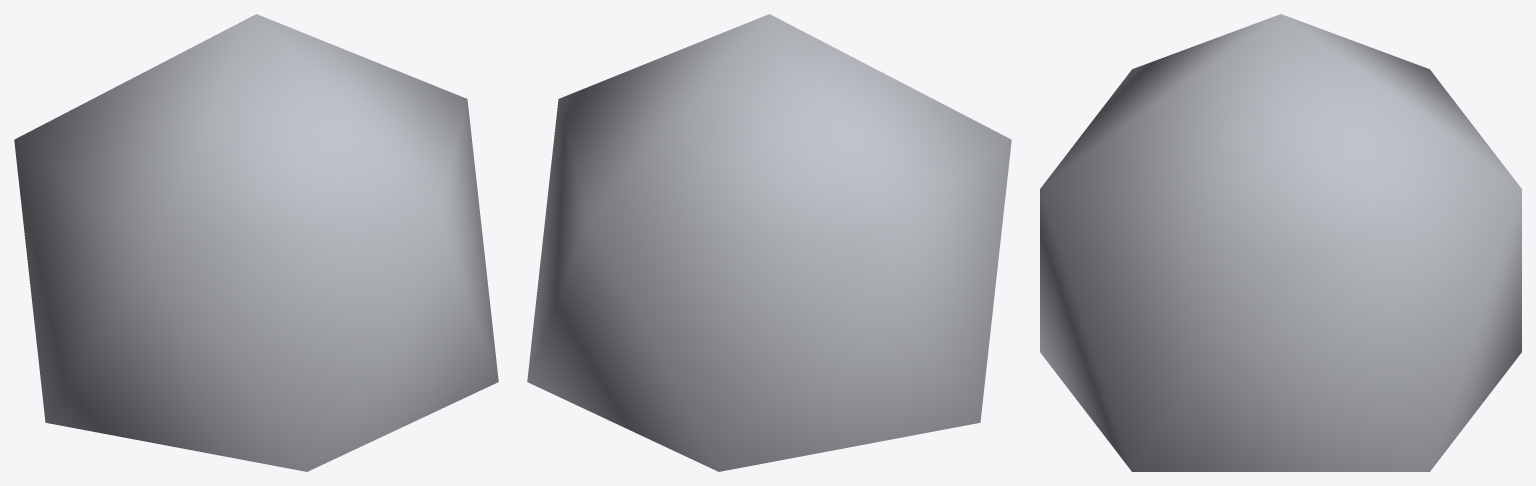
Rendered from Rock_C.fbx.
3 renders of one model, left to right at view 1: azimuth 30°, elevation 25°; view 2: azimuth 150°, elevation 25°; view 3: azimuth 270°, elevation 25°, orthographic. The views are drawn at different scales.
Parts seen in each view (by area): view 1: Rock_C; view 2: Rock_C; view 3: Rock_C.
Part boxes in pixels (<box>): Rock_C: <box>14,14,498,471</box>; Rock_C: <box>527,14,1011,471</box>; Rock_C: <box>1040,14,1521,471</box>.
Bounding box in the file's own units: 49.95 × 40.41 × 47.51.
